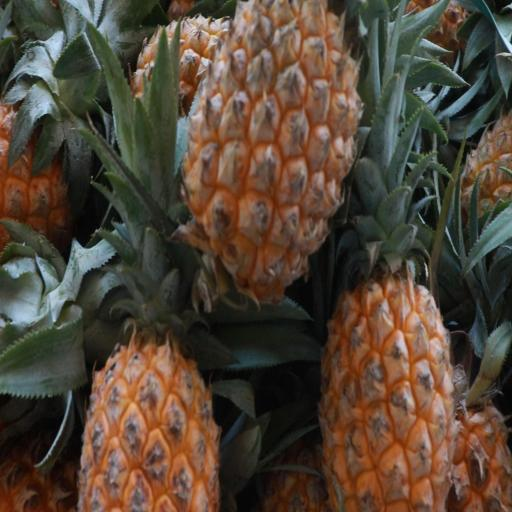Pineapple - v8 v1: (172, 0, 366, 310), (314, 151, 461, 512), (75, 275, 225, 512), (0, 42, 103, 260), (442, 341, 512, 512)
